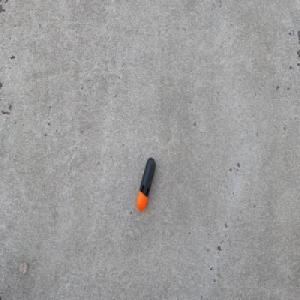PlasticPart: (135, 156, 156, 211)
